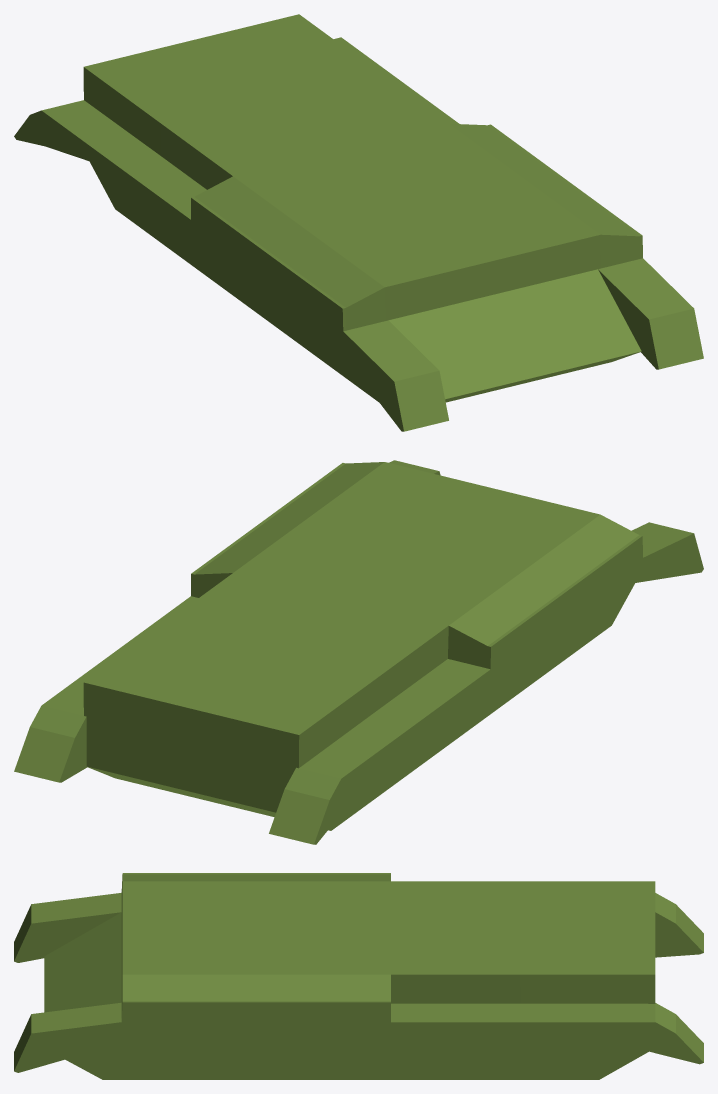
The model's file is Cromwell Hull.fbx.
3 views of the same model, one above another, from view 1: azimuth 30°, elevation 25°; view 2: azimuth 150°, elevation 25°; view 3: azimuth 270°, elevation 25° (orthographic). The views are drawn at different scales.
Visible parts, largest first — view 1: pCube1; view 2: pCube1; view 3: pCube1.
Boxes of the visible parts, x1,y1,x2,y2 form: pCube1: (14, 14, 703, 431); pCube1: (14, 460, 703, 844); pCube1: (14, 873, 703, 1079).
Bounding box in the file's own units: 2.15 × 0.8152 × 4.84.
